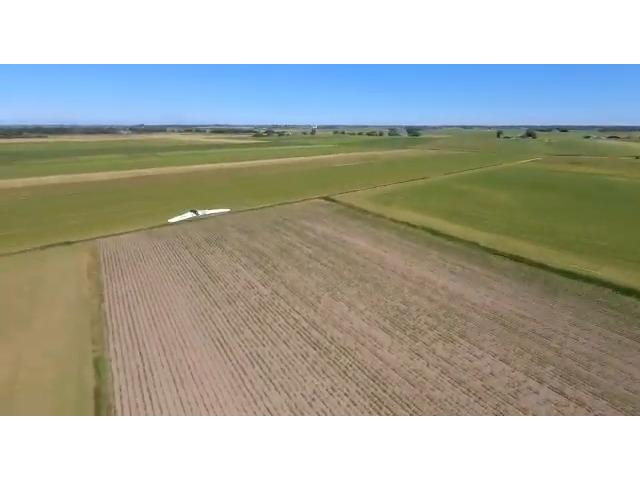Anti-Drone: (155, 195, 255, 233)
